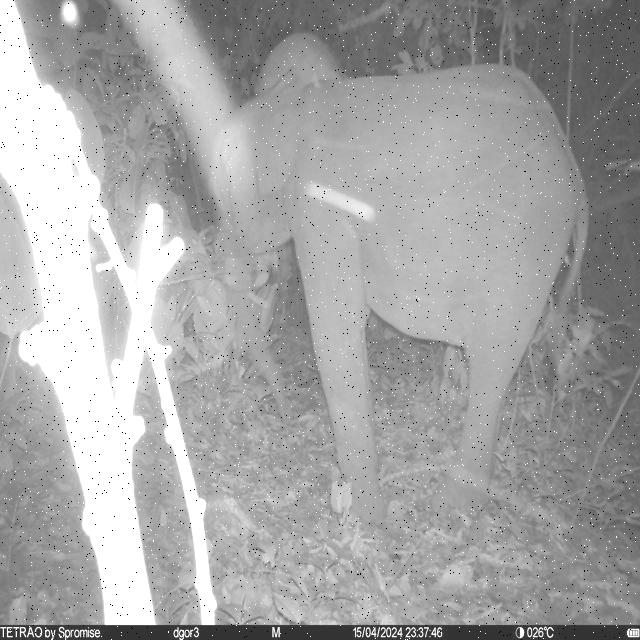elephant: (204, 63, 588, 526)
